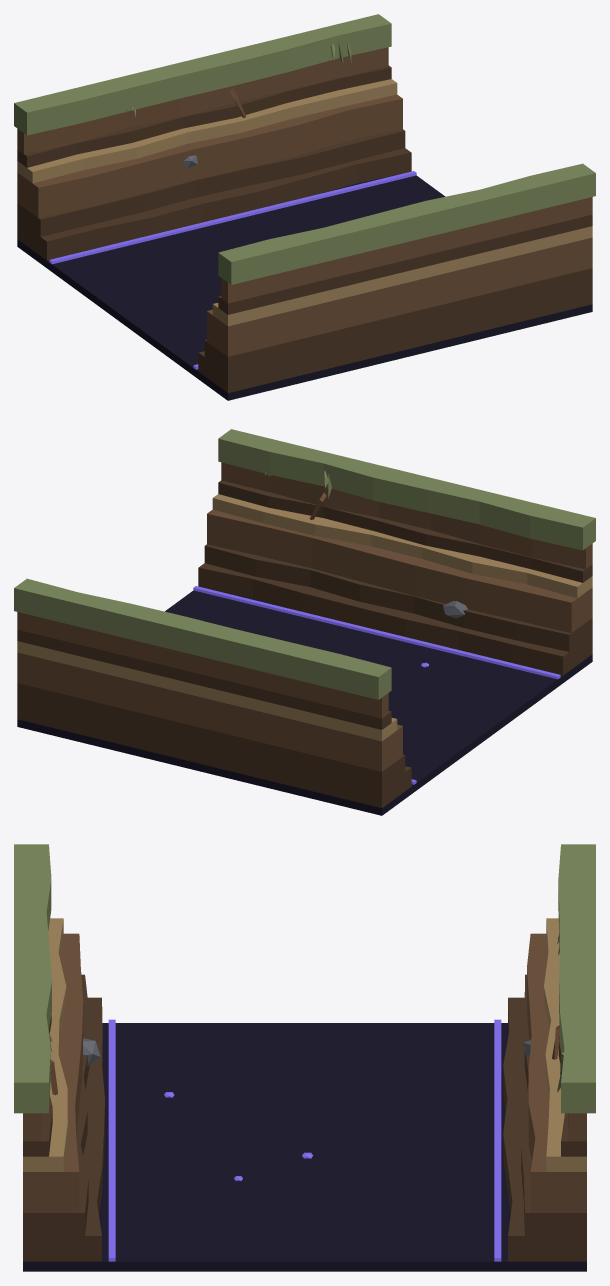
The model's file is Chasm 2 Opposite.fbx.
The picture shows the model from 3 angles, top to bottom: view 1: azimuth 30°, elevation 25°; view 2: azimuth 150°, elevation 25°; view 3: azimuth 270°, elevation 25°; orthographic projection. The views are drawn at different scales.
Parts seen in each view (by area): view 1: Chasm 2 Opposite; view 2: Chasm 2 Opposite; view 3: Chasm 2 Opposite.
Part boxes in pixels (box(x1,y1,x2,y2)): Chasm 2 Opposite: box(14, 14, 595, 400); Chasm 2 Opposite: box(14, 429, 595, 815); Chasm 2 Opposite: box(14, 844, 595, 1271).
Bounding box in the file's own units: 1 × 0.37 × 1.03.
